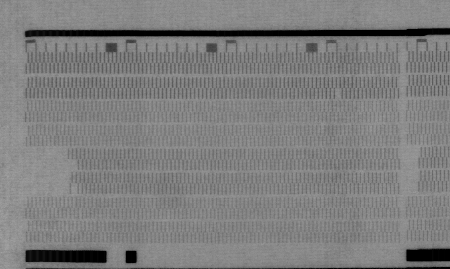Broken hole: (23, 146, 79, 197), (403, 145, 423, 194), (334, 87, 345, 102)
